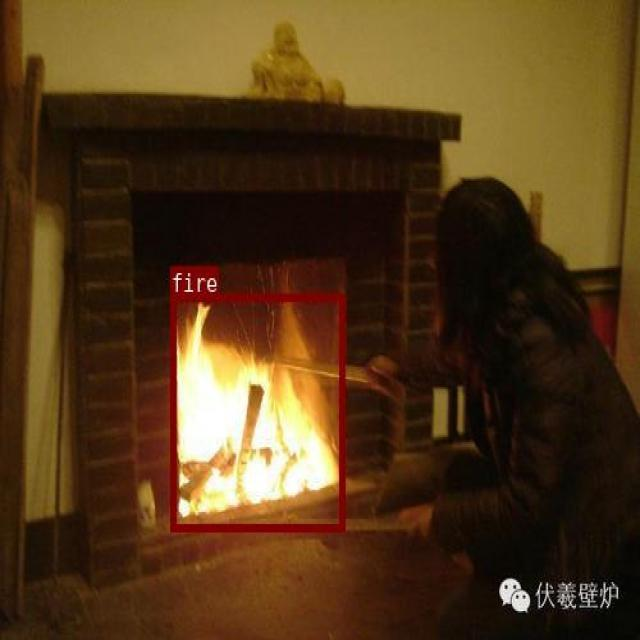fire: (170, 292, 344, 530)
